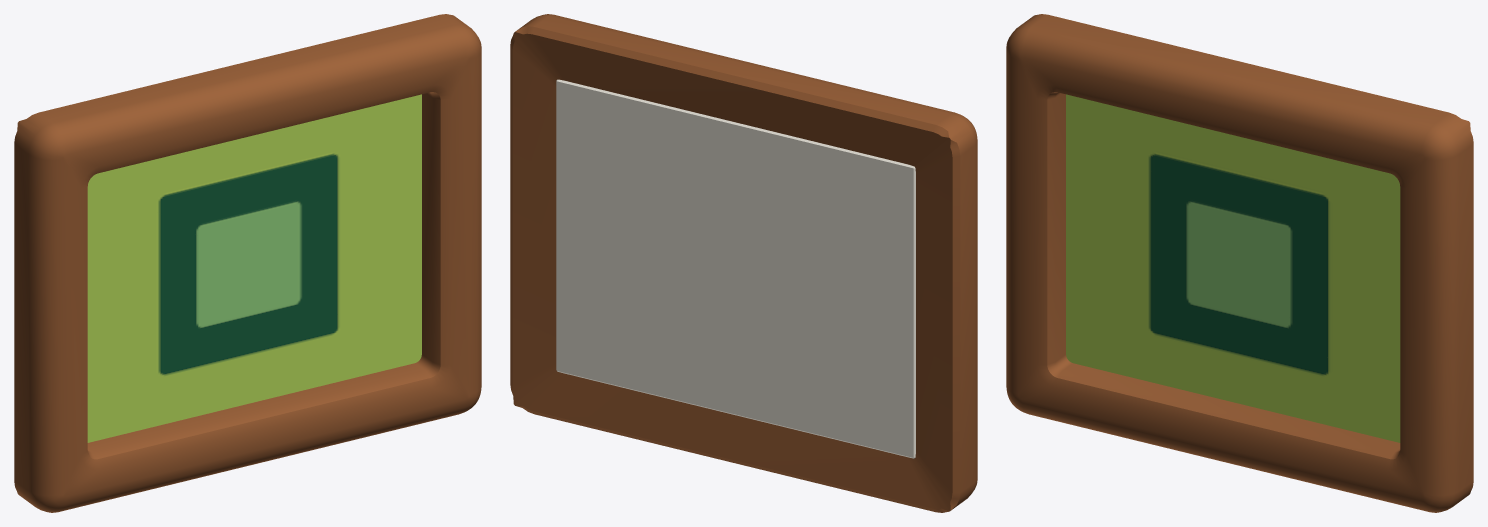
File: quadro_verde_moldurado.glb
The picture shows the model from 3 angles, left to right: view 1: azimuth 30°, elevation 25°; view 2: azimuth 150°, elevation 25°; view 3: azimuth 330°, elevation 25°; orthographic projection.
Parts seen in each view (by area): view 1: quadro_verde_moldurado; view 2: quadro_verde_moldurado; view 3: quadro_verde_moldurado.
Boxes of the visible parts, <box> form: quadro_verde_moldurado: <box>14,14,481,512</box>; quadro_verde_moldurado: <box>510,14,977,512</box>; quadro_verde_moldurado: <box>1006,14,1473,512</box>.
Bounding box in the file's own units: 0.26 × 0.2138 × 0.03.
2 materials, 2 textured.
